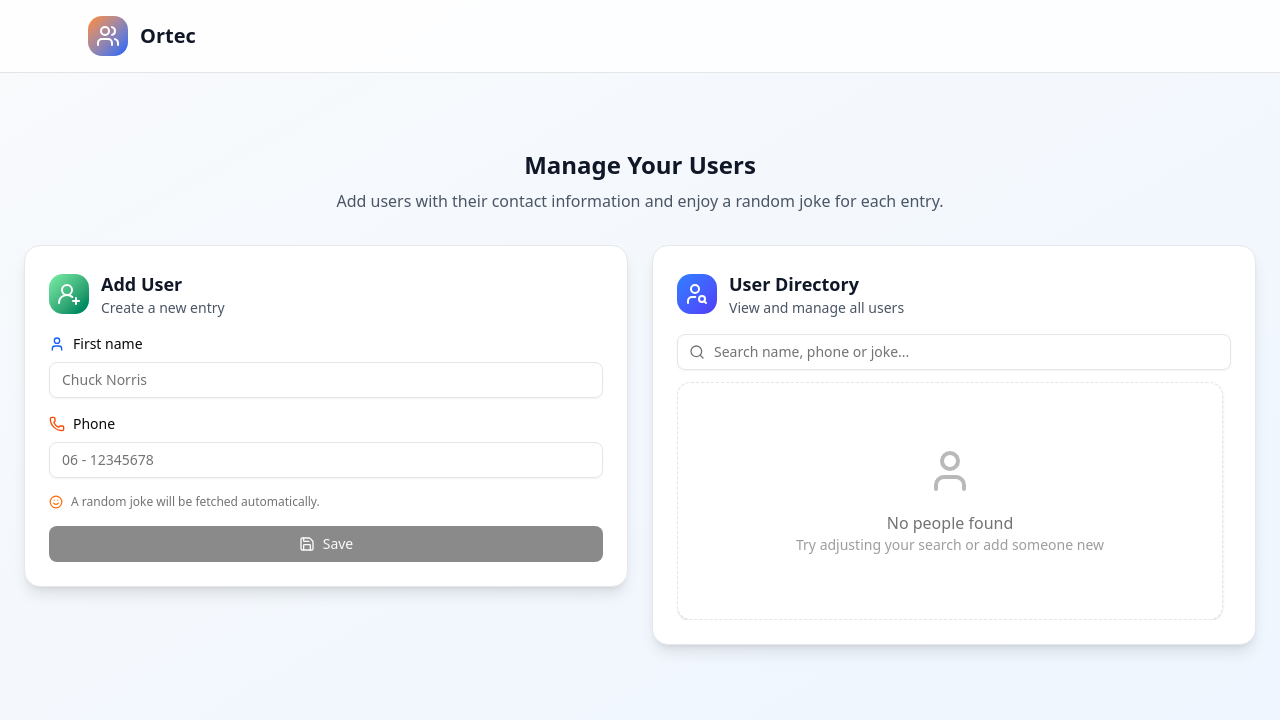
Test: Essential User Management Tests › Unhappy Flow › should handle API errors gracefully
The width and height of the screenshot is (1280, 720).
In the field with test id "first-name-input": (326, 380) [49,362,603,398], type "John Doe"
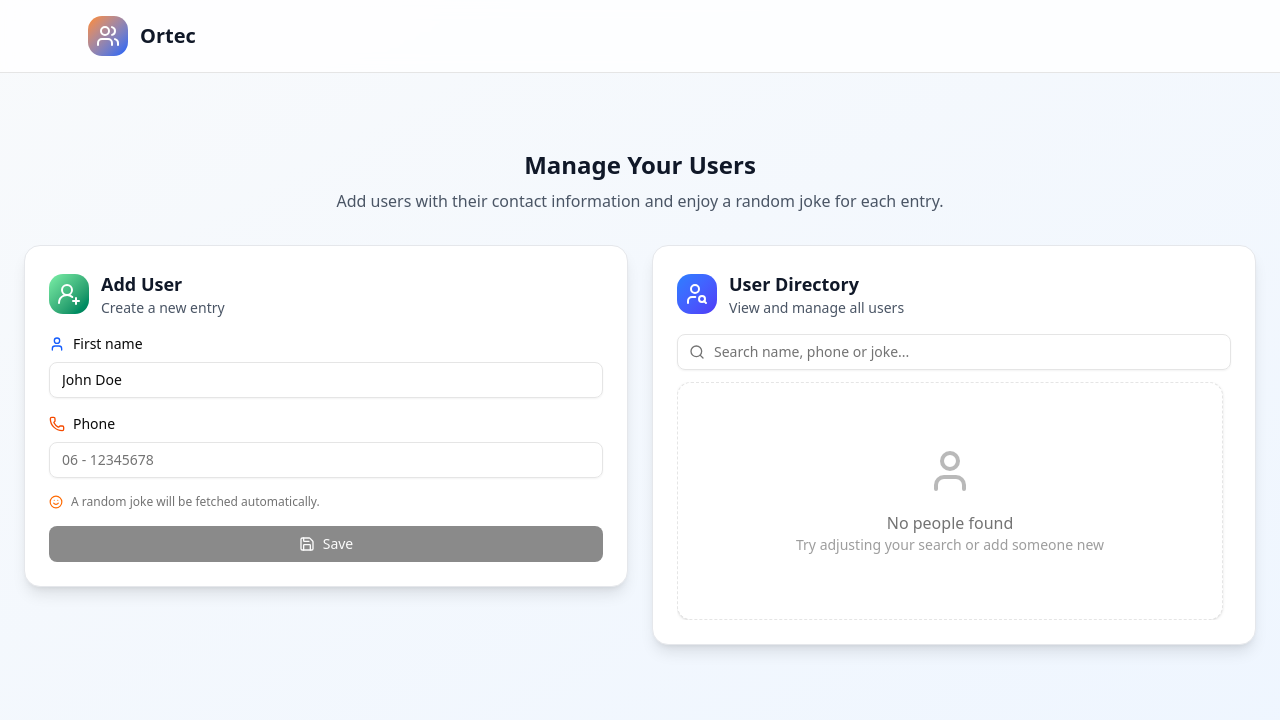
In the field with test id "phone-number-input": (326, 460) [49,442,603,478], type "0612345678"
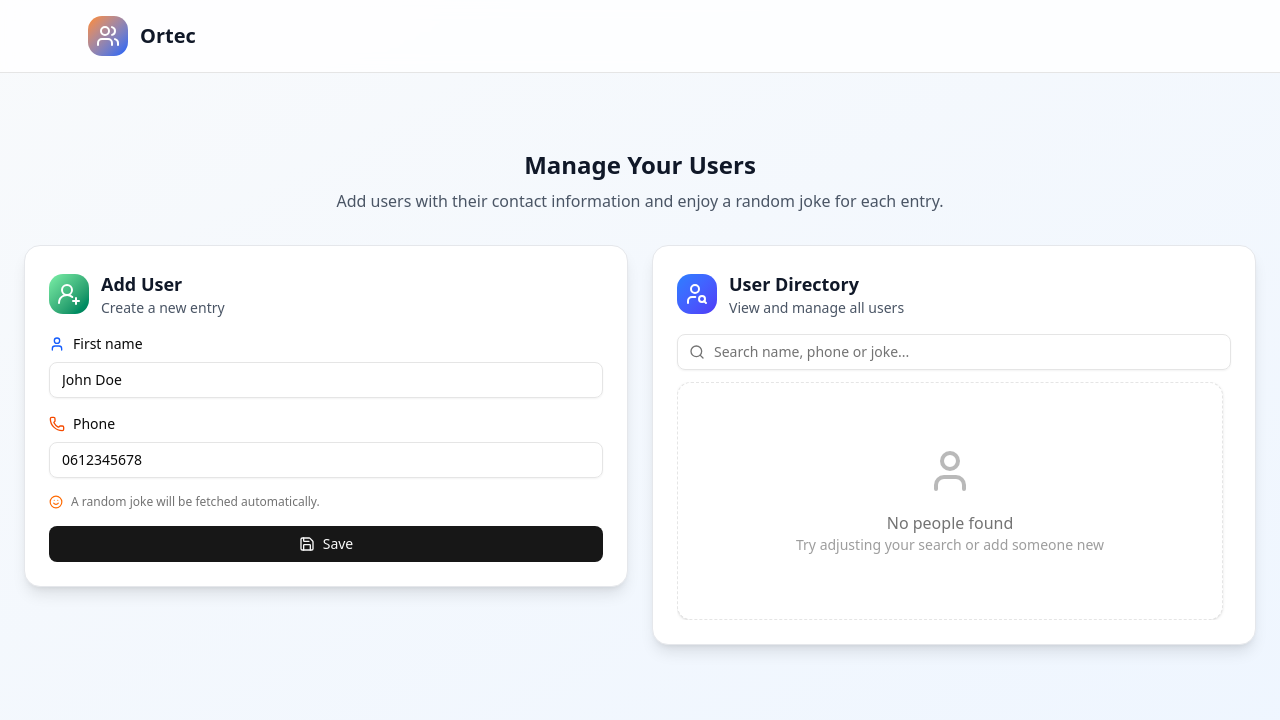
Click the button with test id "submit-button": click(326, 544) [49,526,603,562]
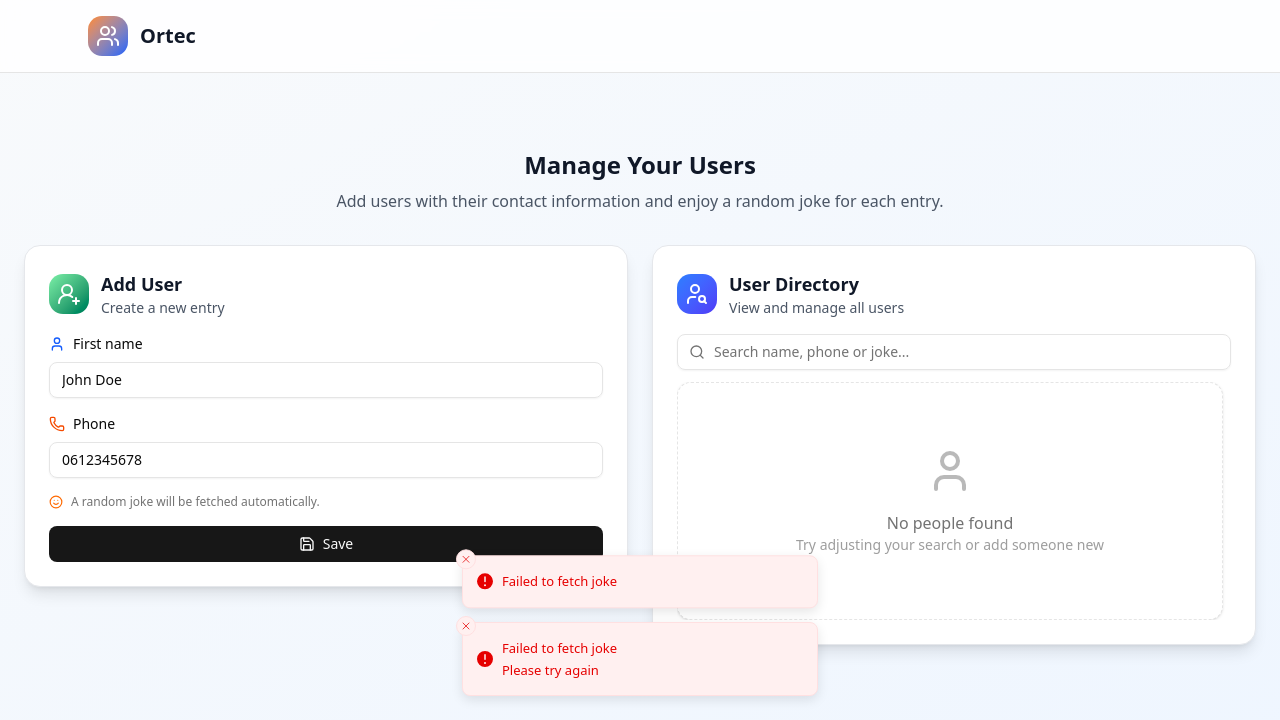
Check: the list item "Failed to fetch joke Please try again" is shown, box [462,622,818,696]
Check: the 2nd text "Failed to fetch joke" is shown, box [502,639,617,659]
